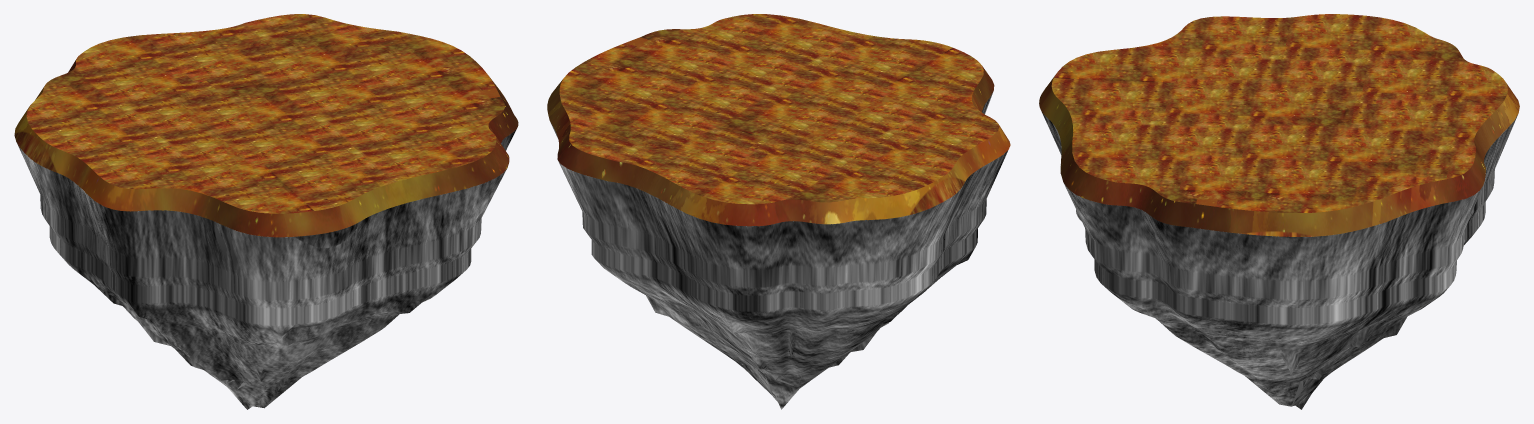
Rendered from fall.FBX.
The picture shows the model from 3 angles, left to right: view 1: azimuth 30°, elevation 25°; view 2: azimuth 150°, elevation 25°; view 3: azimuth 270°, elevation 25°; orthographic projection. The views are drawn at different scales.
Parts seen in each view (by area): view 1: Line006, Line007; view 2: Line006, Line007; view 3: Line006, Line007.
Boxes of the visible parts, box(x1,y1,x2,y2) form: Line006: box(14, 14, 518, 237); Line007: box(14, 124, 516, 409); Line006: box(547, 14, 1010, 226); Line007: box(550, 91, 1008, 409); Line006: box(1039, 14, 1519, 236); Line007: box(1039, 103, 1519, 409).
Size of the model in its own units: 954 by 645 by 924.
2 materials, 2 textured.
